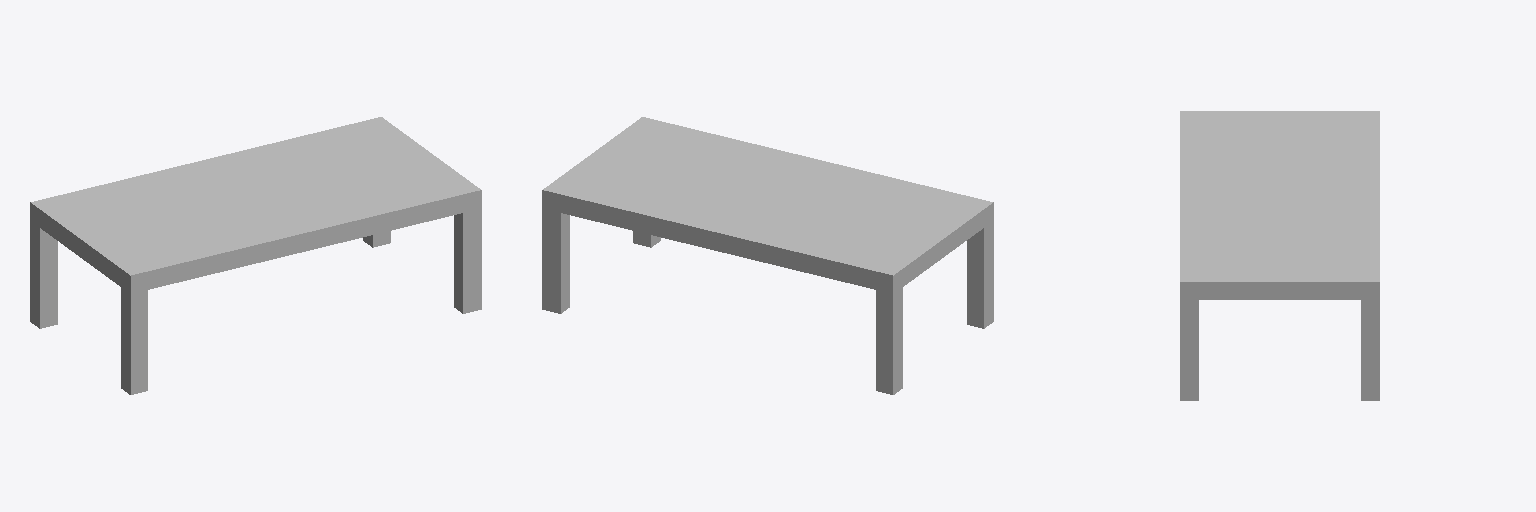
The model's file is table_mr.obj.
3 renders of one model, left to right at view 1: azimuth 30°, elevation 25°; view 2: azimuth 150°, elevation 25°; view 3: azimuth 270°, elevation 25°, orthographic.
Visible parts, largest first — view 1: Table_Cube.024; view 2: Table_Cube.024; view 3: Table_Cube.024.
Part boxes in pixels (bbox=[...]): Table_Cube.024: bbox=[30, 117, 481, 394]; Table_Cube.024: bbox=[542, 117, 993, 394]; Table_Cube.024: bbox=[1180, 111, 1379, 400].
Bounding box in the file's own units: 7.99 × 2.6 × 3.95.